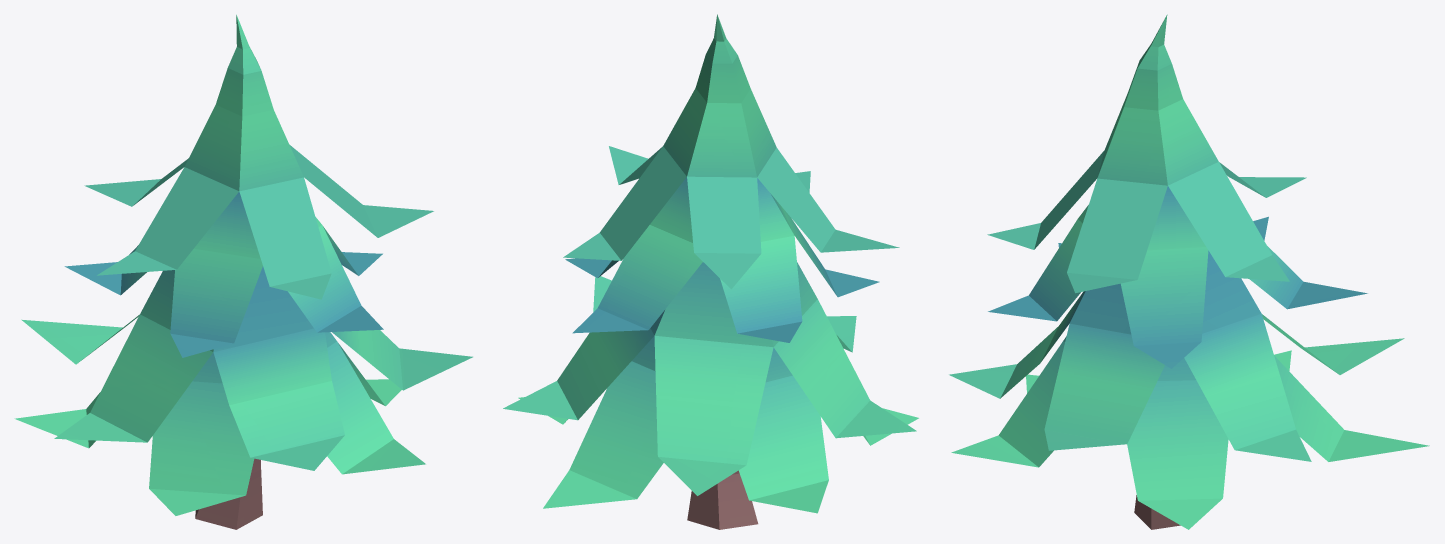
File: spruce.obj
3 views of the same model, side by side, from view 1: azimuth 30°, elevation 25°; view 2: azimuth 150°, elevation 25°; view 3: azimuth 270°, elevation 25° (orthographic).
Visible parts, largest first — view 1: Spruce; view 2: Spruce; view 3: Spruce.
Boxes of the visible parts, x1,y1,x2,y2 form: Spruce: [14, 14, 472, 529]; Spruce: [503, 14, 918, 529]; Spruce: [949, 14, 1429, 529].
Bounding box in the file's own units: 12.22 × 15.48 × 13.35.
Materials: 1 (1 with a texture image).
